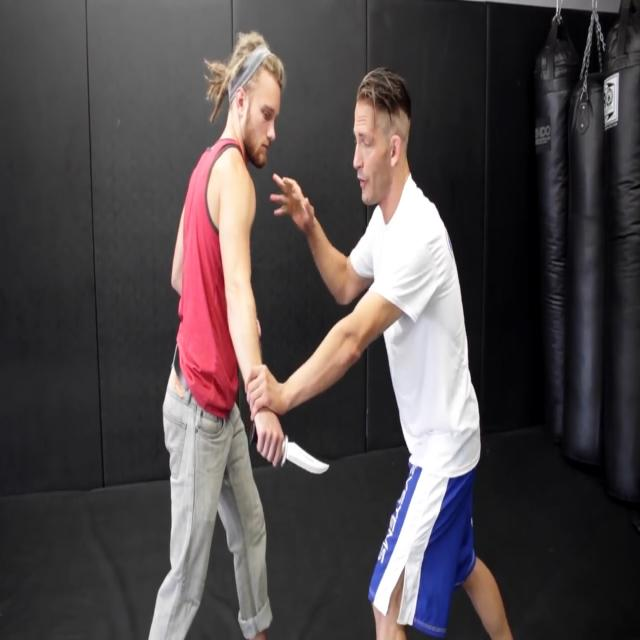knife: (283, 438, 335, 481)
